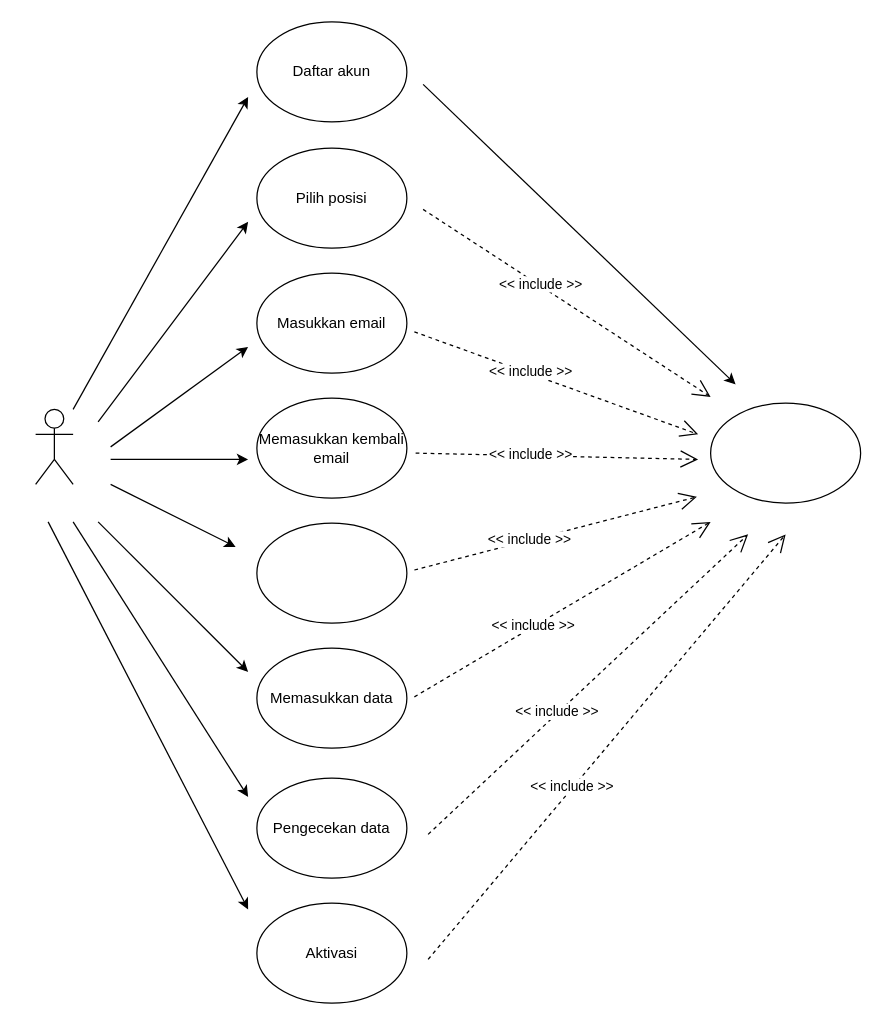
Some shapes in this 883 by 1025 pixel diagram are drawn without their labels. The shapes that lost their labels are listed below. From the top down, each one's box as (x1, y1, x2, y2) in pixels, then its label:
(34, 408, 73, 484): mhasiswa
(709, 402, 861, 503): Login
(256, 522, 407, 623): Masukkan sandi
